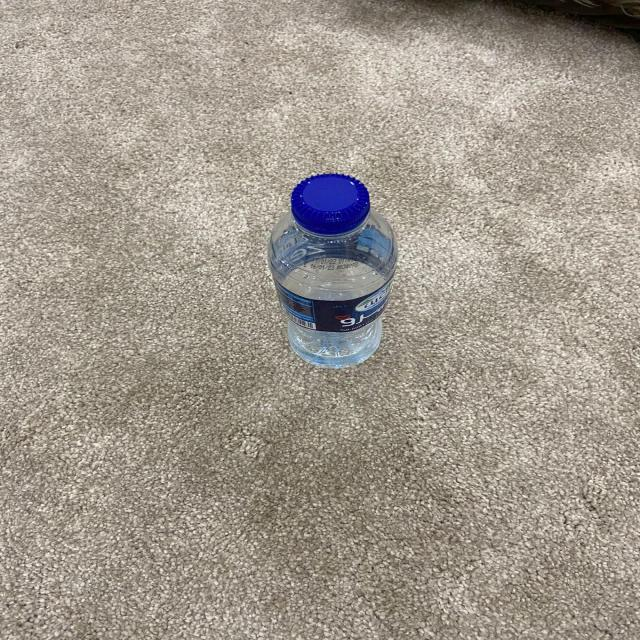bottle: (262, 163, 406, 391)
